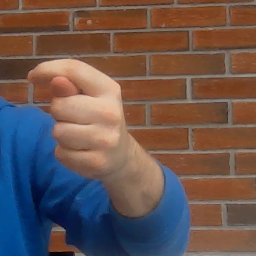T: (26, 56, 132, 186)
